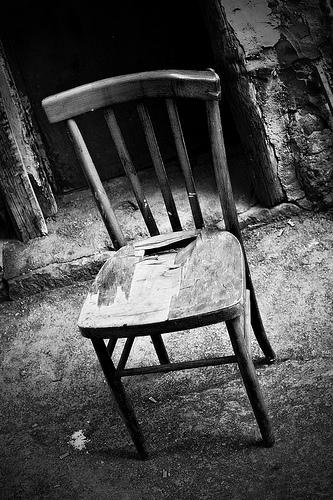obstacle: (42, 70, 274, 457)
